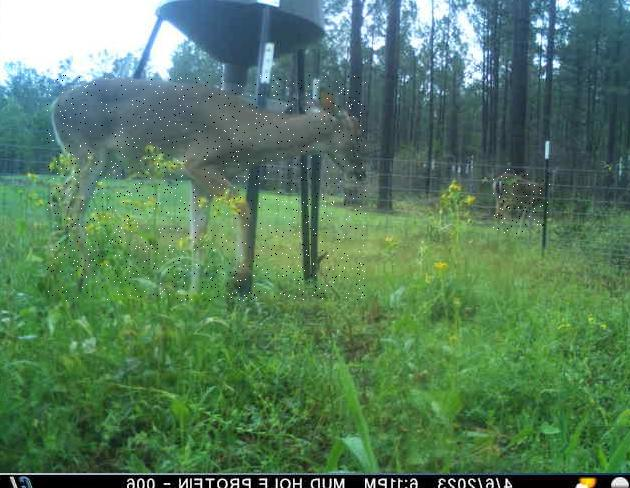Deer: (47, 75, 366, 301), (492, 169, 550, 234)
